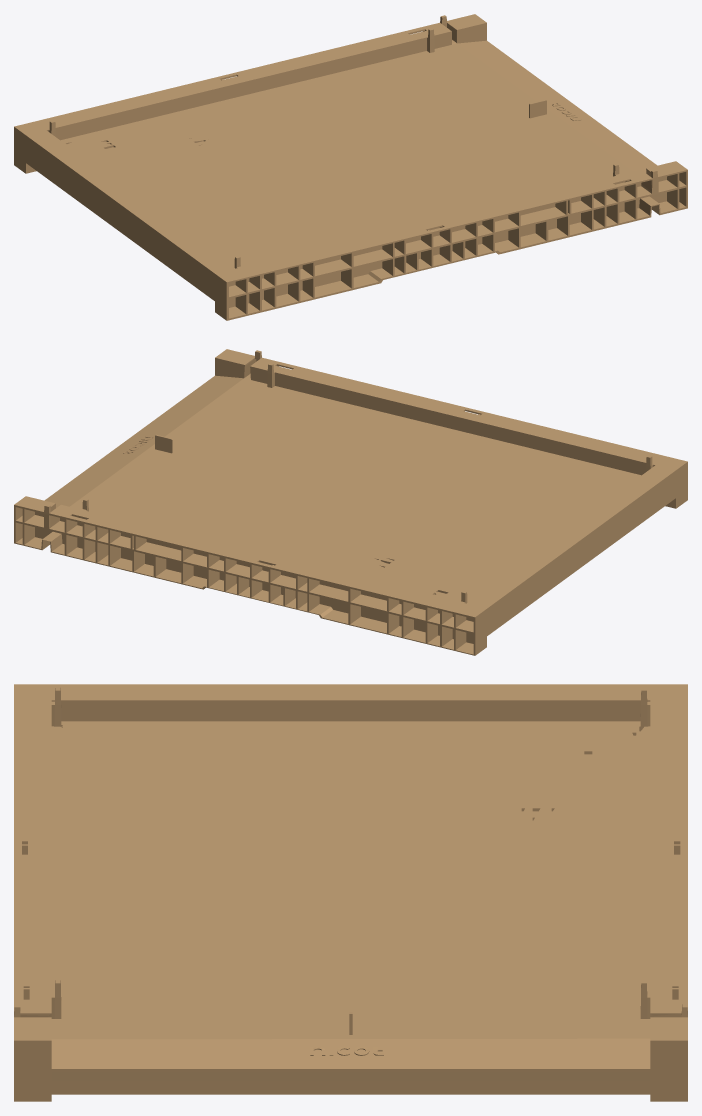
Rendered from socle_de_ruche.fbx.
3 views of the same model, one above another, from view 1: azimuth 30°, elevation 25°; view 2: azimuth 150°, elevation 25°; view 3: azimuth 270°, elevation 25° (orthographic). The views are drawn at different scales.
Parts seen in each view (by area): view 1: Cube; view 2: Cube; view 3: Cube.
Boxes of the visible parts, x1=… form: Cube: x1=14, y1=14, x2=687, y2=320; Cube: x1=14, y1=349, x2=687, y2=655; Cube: x1=14, y1=684, x2=687, y2=1101.
Bounding box in the file's own units: 53.8 × 5.3 × 43.01.
